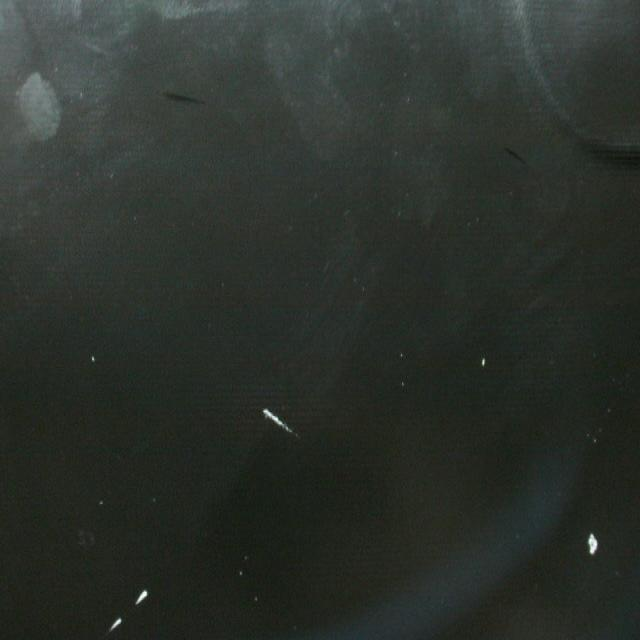scratch: (92, 570, 163, 640), (258, 397, 302, 450), (162, 82, 212, 125), (498, 140, 546, 180)
very small scratch: (582, 518, 602, 564)
